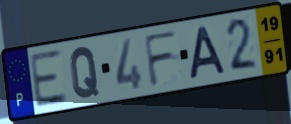2: (226, 15, 259, 77)
4: (114, 36, 144, 92)
A: (189, 24, 229, 82)
E: (28, 48, 70, 111)
F: (142, 28, 180, 90)
Q: (68, 45, 101, 101)
